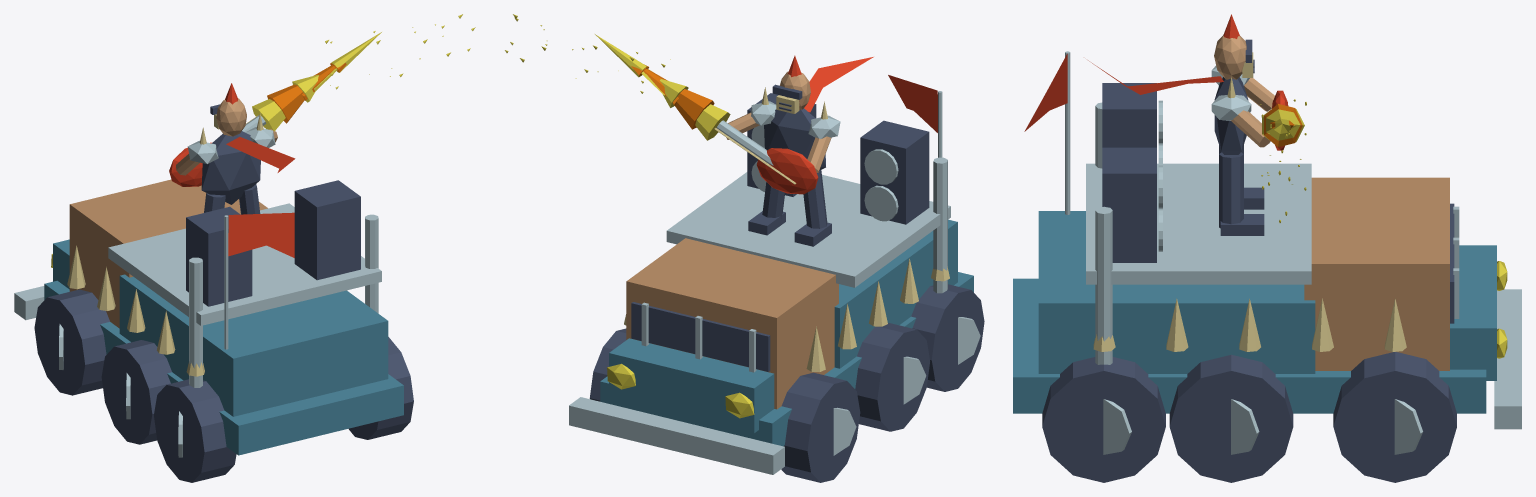
File: war-rig.glb
The picture shows the model from 3 angles, left to right: view 1: azimuth 30°, elevation 25°; view 2: azimuth 150°, elevation 25°; view 3: azimuth 270°, elevation 25°; orthographic projection. The views are drawn at different scales.
Parts seen in each view (by area): view 1: Chassis, Guitarist, Wheel0, Wheel2, Wheel1, OriginalGuitarFlame, Wheel3; view 2: Chassis, Guitarist, Wheel2, Wheel1, Wheel0, OriginalGuitarFlame, Wheel5, Wheel8, Wheel7, Wheel6; view 3: Chassis, Wheel5, Wheel4, Wheel3, Guitarist, OriginalGuitarFlame, Wheel11, Wheel9, Wheel10.
Part boxes in pixels (x1,y1,x2,y2): Chassis: (14,179,403,455); Guitarist: (169,83,295,214); Wheel0: (154,379,236,482); Wheel2: (34,289,109,395); Wheel1: (101,340,171,444); OriginalGuitarFlame: (252,14,475,131); Wheel3: (348,337,413,439); Chassis: (569,75,973,474); Guitarist: (714,55,873,246); Wheel2: (781,372,860,482); Wheel1: (855,323,929,431); Wheel0: (911,284,984,391); OriginalGuitarFlame: (505,14,730,140); Wheel5: (589,328,626,401); Wheel8: (833,407,856,455); Wheel7: (903,356,926,404); Wheel6: (958,317,980,364); Chassis: (1013,51,1521,429); Wheel5: (1333,352,1456,482); Wheel4: (1169,354,1293,482); Wheel3: (1042,357,1165,482); Guitarist: (1088,14,1288,235); OriginalGuitarFlame: (1260,99,1306,222); Wheel11: (1394,399,1422,454); Wheel9: (1103,399,1131,454); Wheel10: (1231,399,1259,454).
Size of the model in its own units: 7.26 by 6.16 by 6.99.
